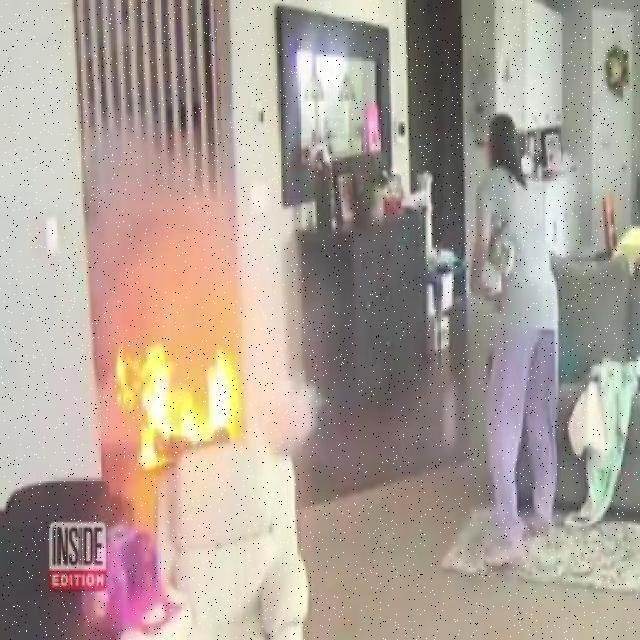fire: (125, 334, 251, 471)
smoke: (88, 174, 268, 317)
